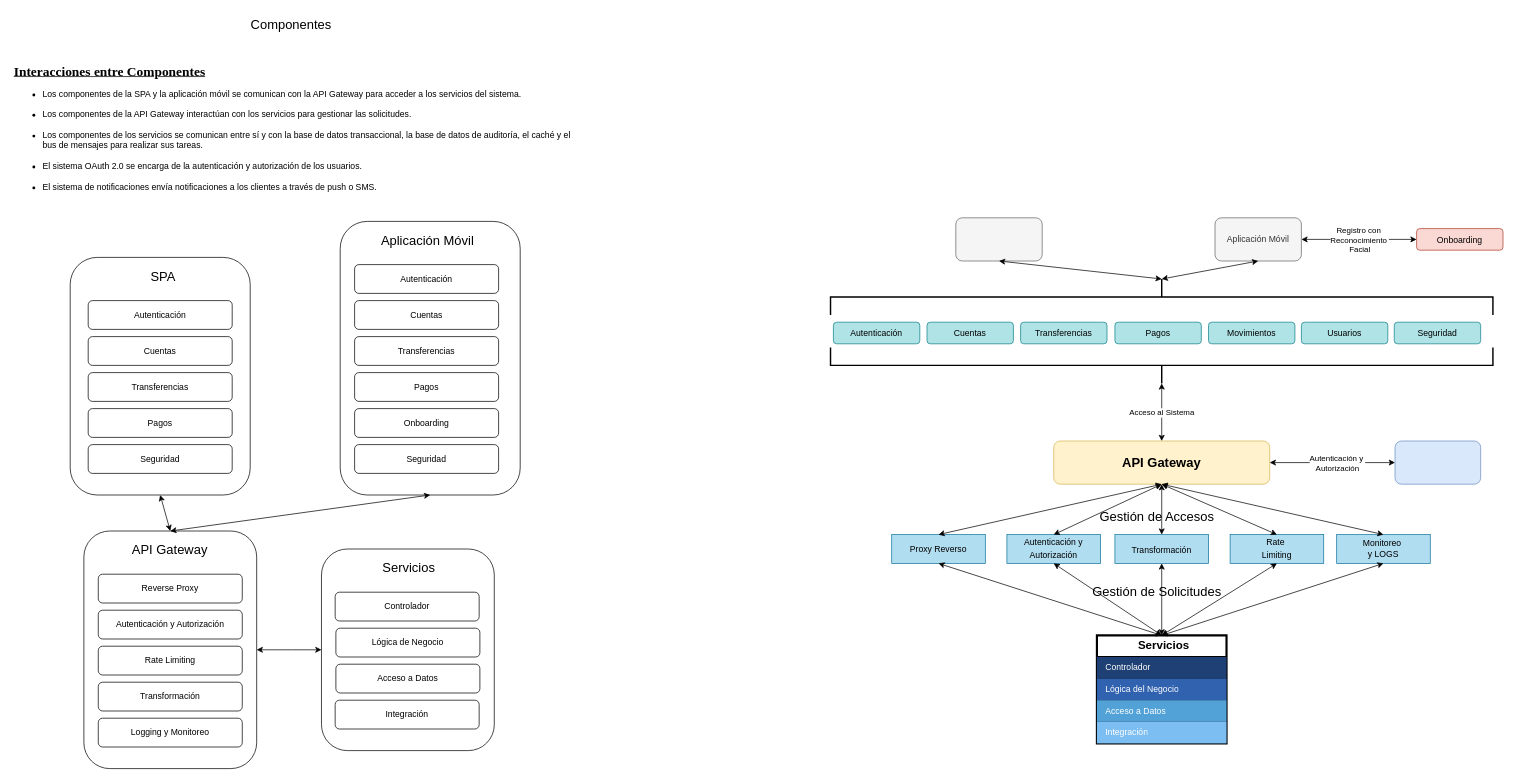
Image size: 1516x781. Some labels were removed from this diagram. The centre of each missing label's shape, as x and y in pixels:
"Aplicación WEB (SPA)" belongs at point 998,239.
"Sistema de Autenticación OAuth 2.0" belongs at point 1437,462.
